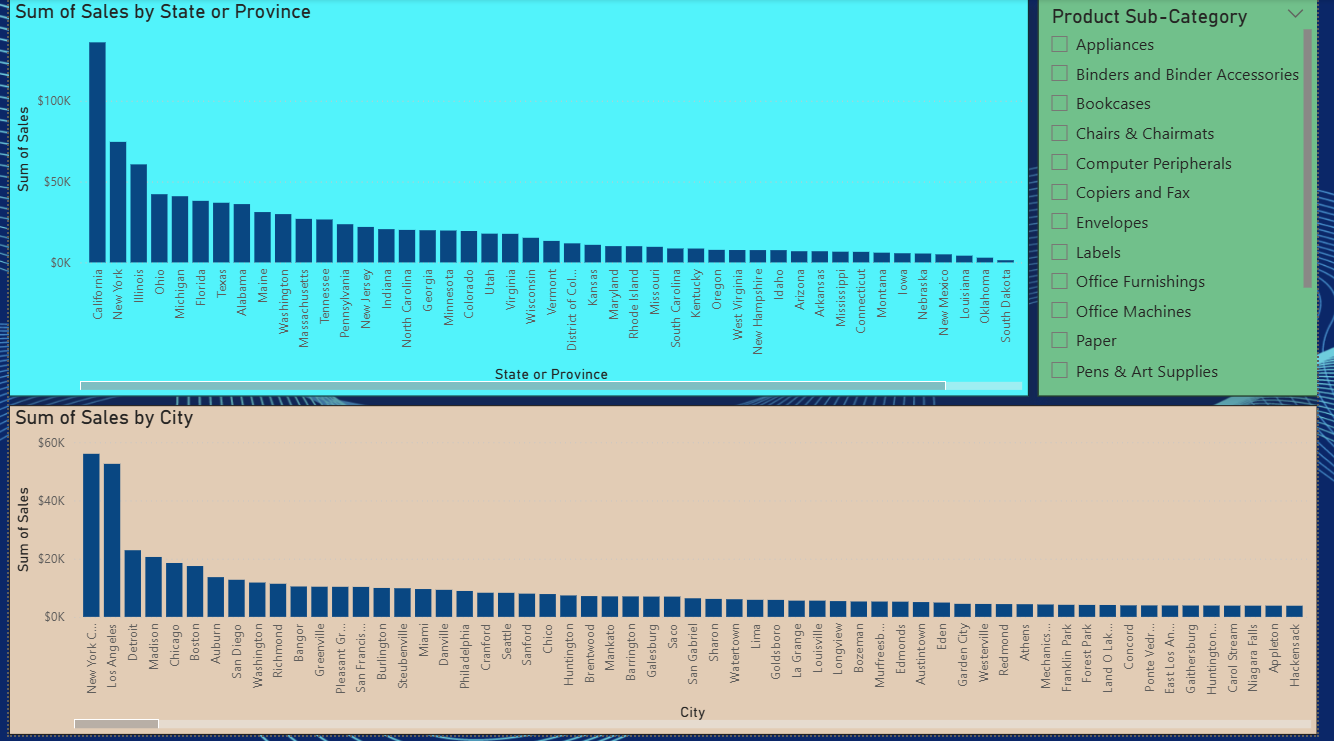

What the dashboard file says about the page in this screenshot:
{"tool":"powerbi","page":{"name":"Page 2","canvas":[1280,720],"ordinal":1},"visuals":[{"type":"clusteredColumnChart","fields":{"Y":["Sum(SuperStoreUS-2015 xlsx.Sales)"],"Category":["SuperStoreUS-2015 xlsx.State or Province"]},"box":[0,0,997.5,388.9],"z":0},{"type":"slicer","fields":{"Values":["SuperStoreUS-2015 xlsx.Product Sub-Category"]},"box":[1006.2,0,274.1,388.9],"z":1},{"type":"columnChart","fields":{"Y":["Sum(SuperStoreUS-2015 xlsx.Sales)"],"Category":["SuperStoreUS-2015 xlsx.City"]},"box":[0,397.5,1280.2,322.2],"z":2}]}

Visuals, with their boxes in screenshot pixels (x1, y1, x2, y2), scaled from the page's 1280x720 canvas onto the 1334x741 screenshot:
clusteredColumnChart - Sum(SuperStoreUS-2015 xlsx.Sales) x SuperStoreUS-2015 xlsx.State or Province: {"left": 0, "top": 0, "right": 1040, "bottom": 400}
slicer - SuperStoreUS-2015 xlsx.Product Sub-Category: {"left": 1049, "top": 0, "right": 1333, "bottom": 400}
columnChart - Sum(SuperStoreUS-2015 xlsx.Sales) x SuperStoreUS-2015 xlsx.City: {"left": 0, "top": 409, "right": 1333, "bottom": 740}
